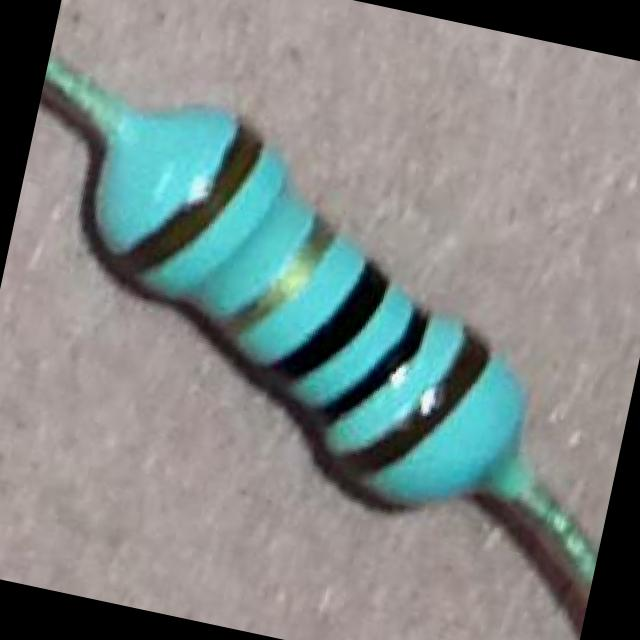Resistor: (98, 107, 524, 502)
black: (302, 297, 431, 436), (259, 261, 386, 397)
brown: (319, 319, 492, 494), (105, 120, 262, 280)
gold: (197, 219, 334, 350)
